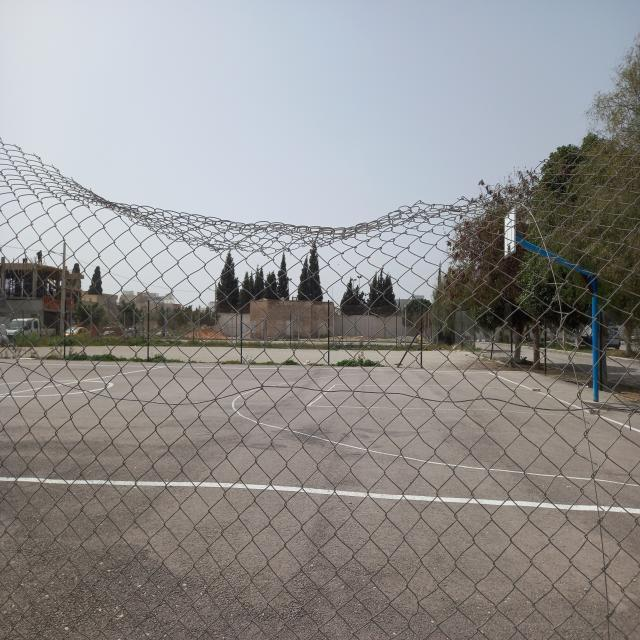fence line: (81, 161, 557, 257)
